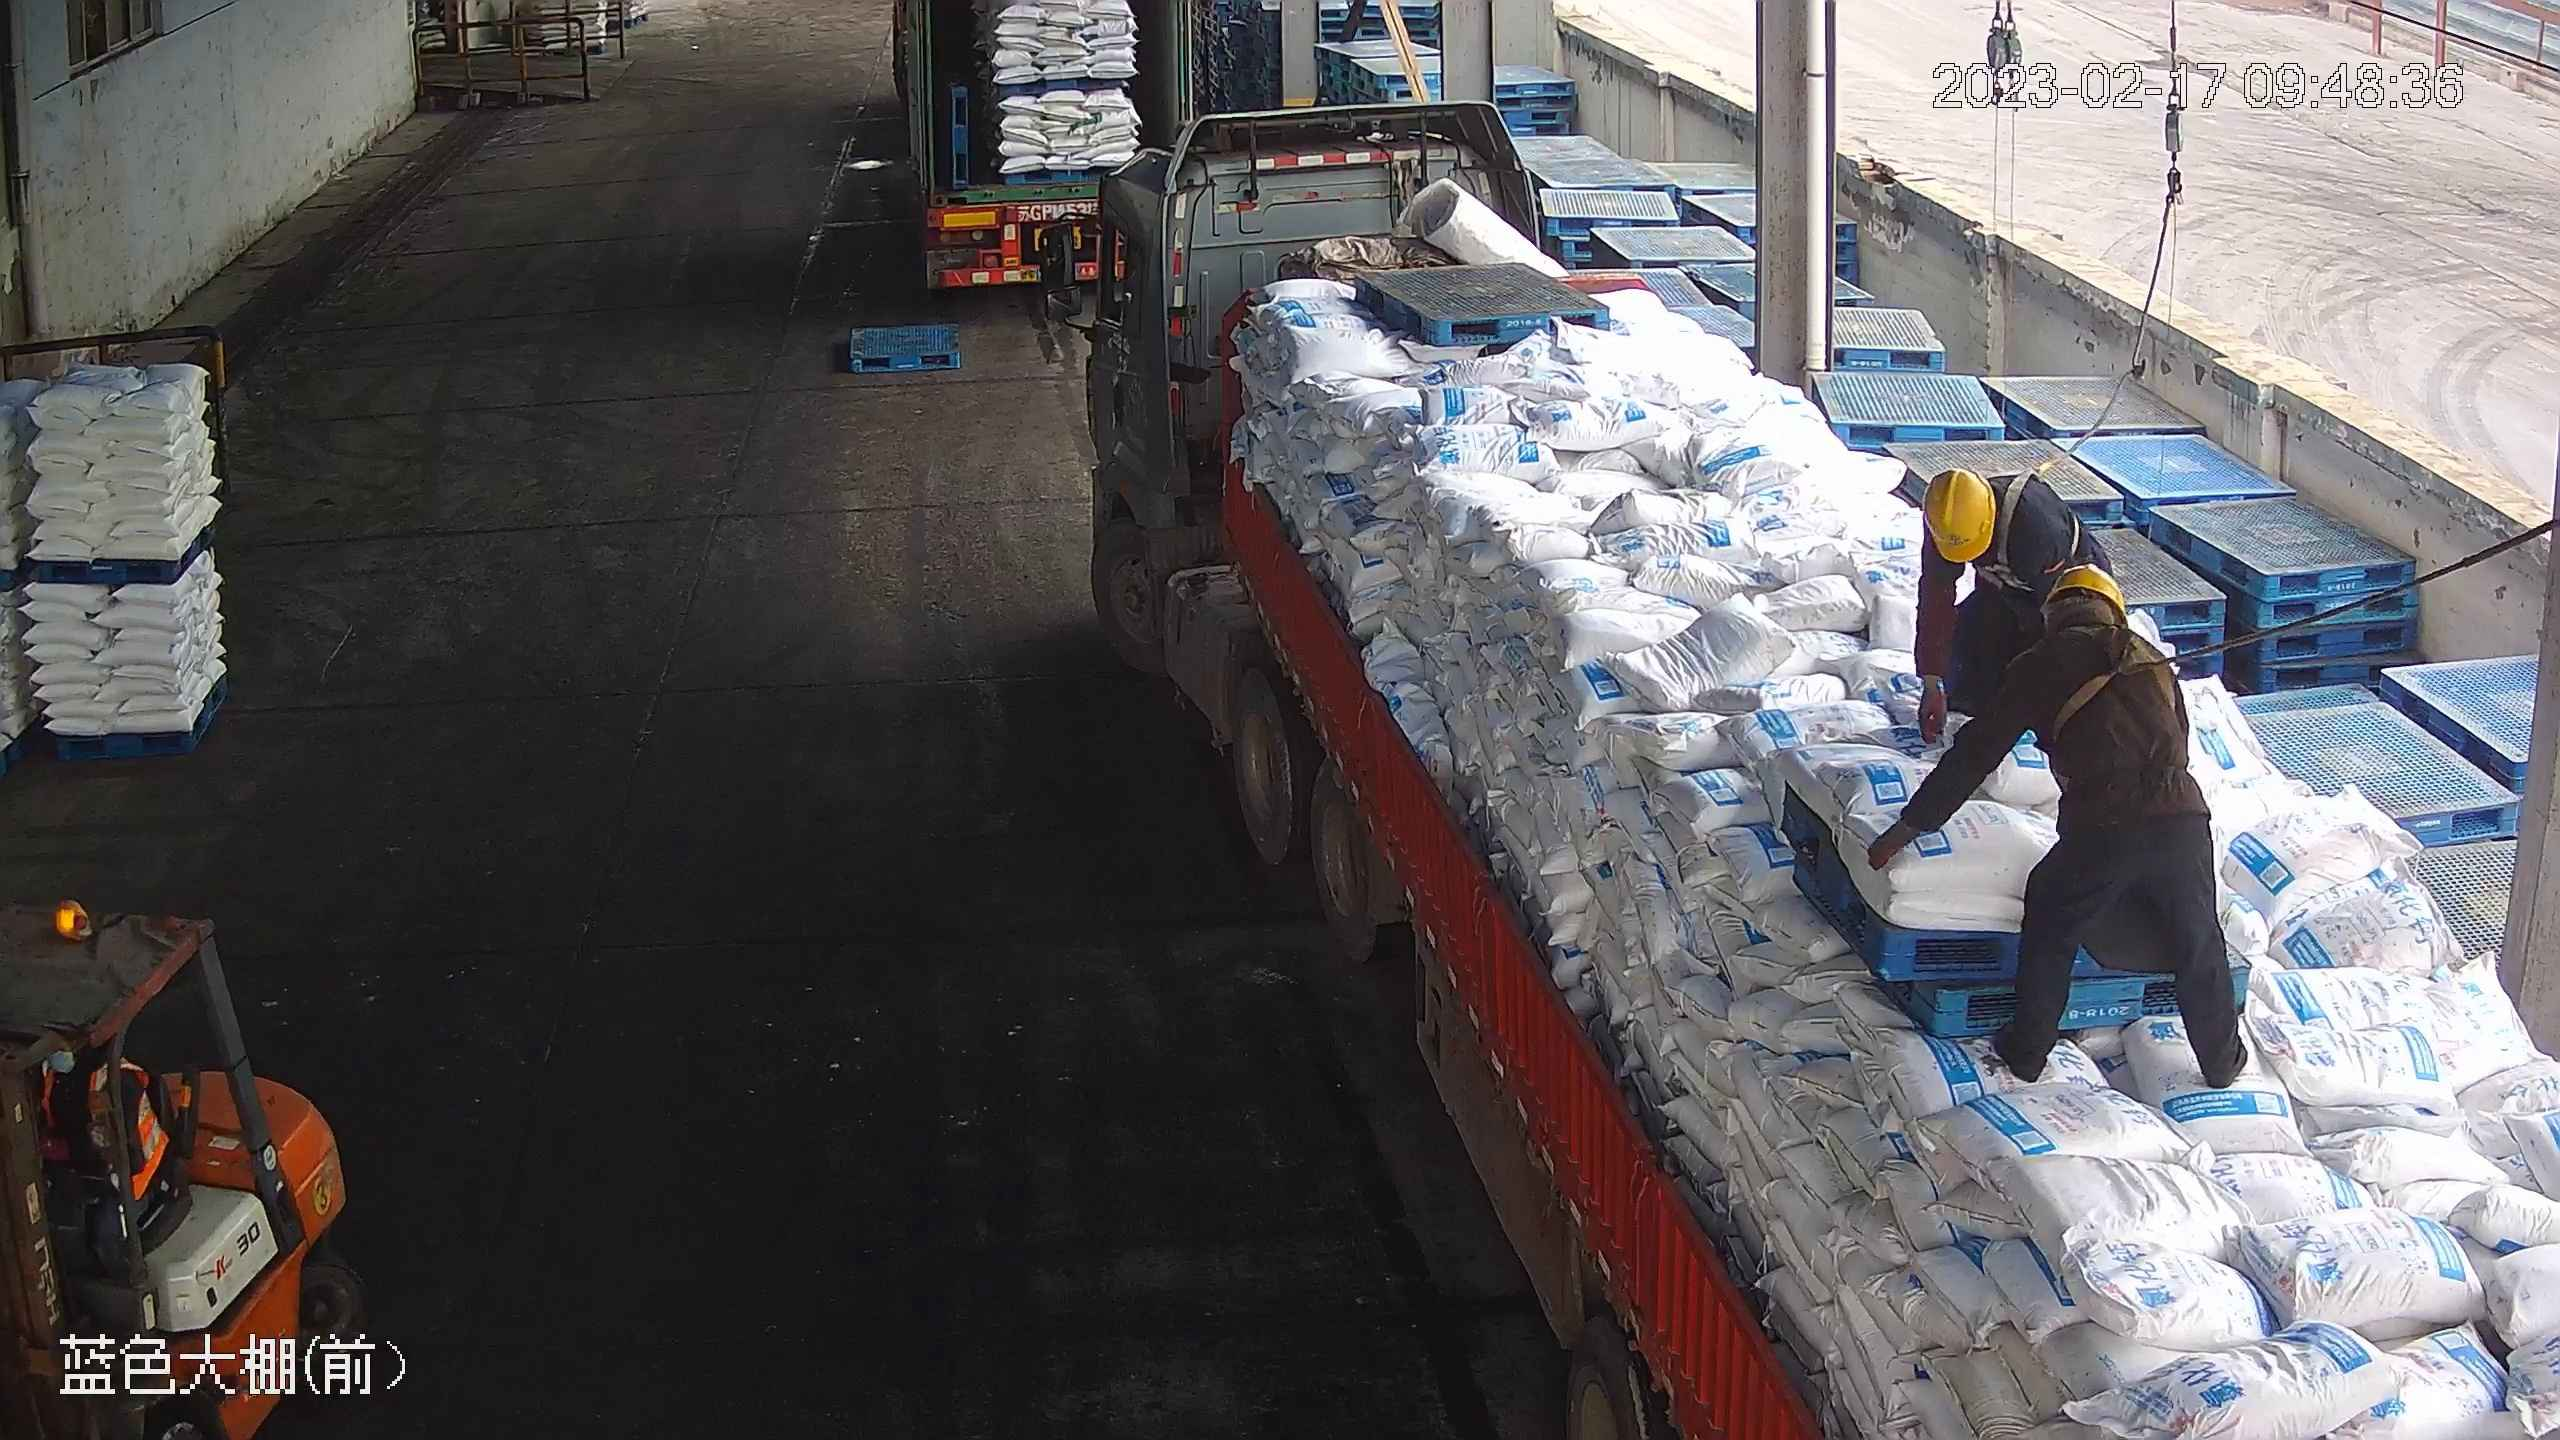belt: (2033, 618, 2182, 741), (1978, 453, 2071, 579)
head: (2004, 563, 2175, 691), (1918, 460, 2060, 570)
helmet: (1921, 466, 1997, 564), (2040, 560, 2126, 628)
people: (1863, 558, 2251, 1093), (1909, 460, 2088, 742)
truck: (1096, 106, 2560, 1429), (876, 1, 1216, 300)
